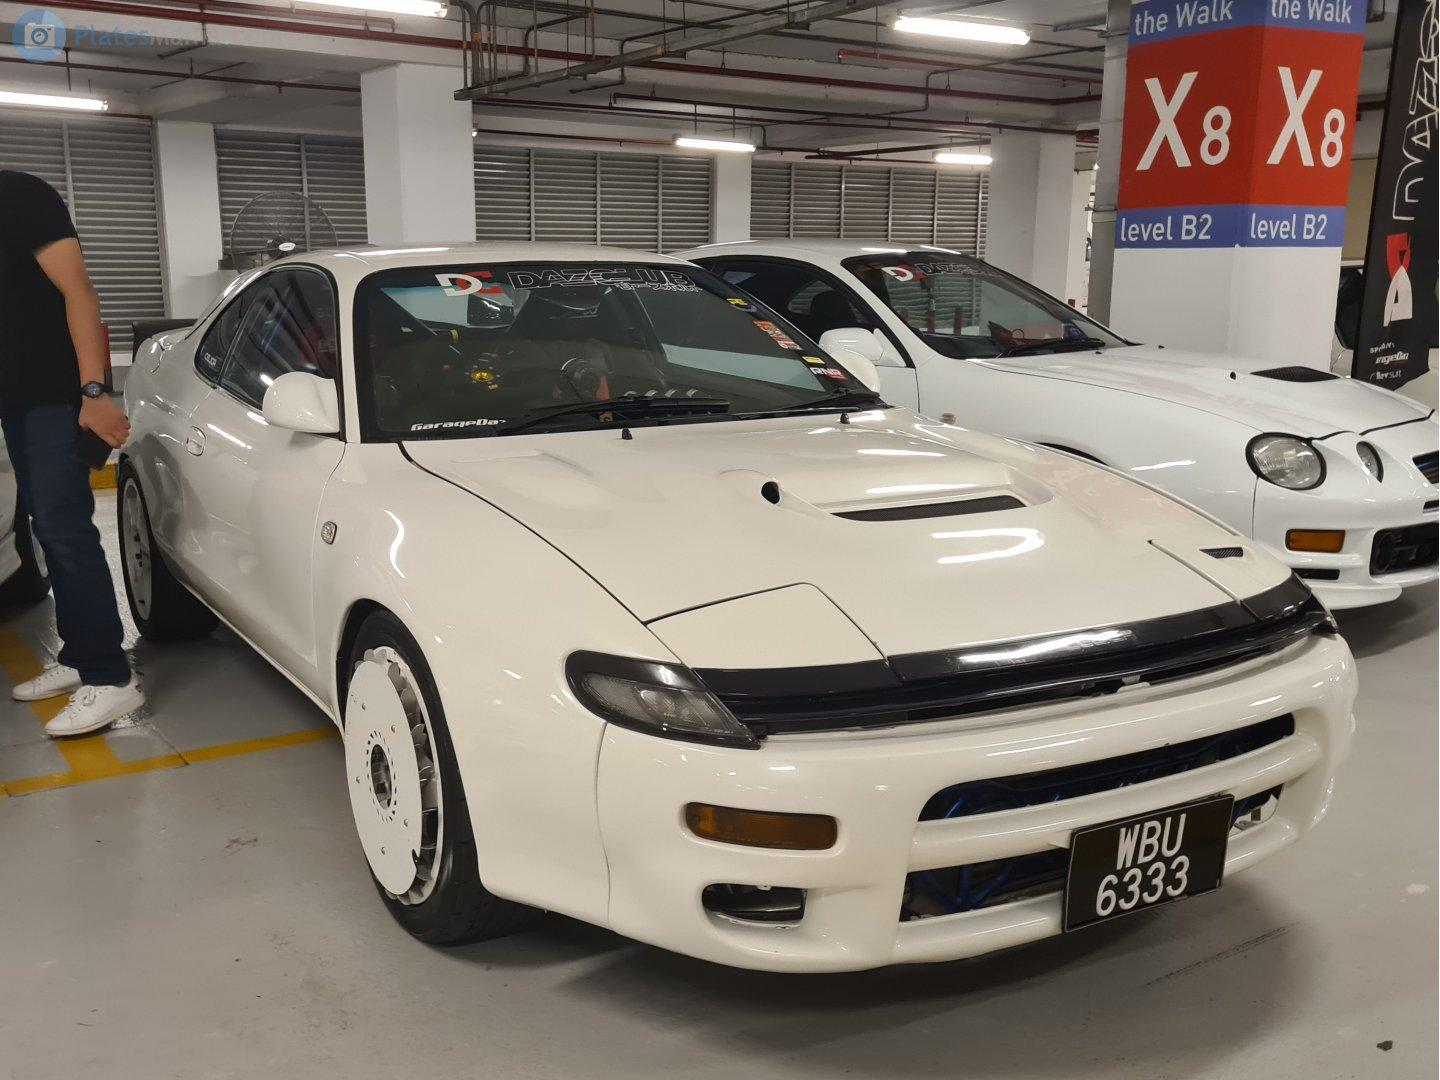License Plate: (1069, 798, 1234, 929)
